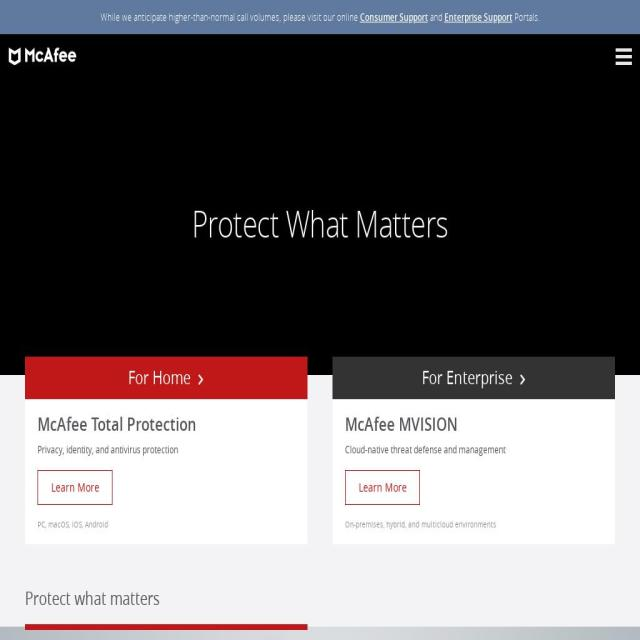button: (25, 357, 307, 399), (333, 357, 615, 399), (37, 412, 295, 436), (345, 412, 603, 436), (345, 470, 420, 505), (38, 470, 112, 505), (9, 47, 76, 66), (616, 34, 631, 79), (592, 47, 602, 61)
heading: (25, 586, 615, 610), (191, 202, 449, 246), (37, 412, 295, 436), (345, 412, 603, 436), (422, 365, 526, 389), (128, 365, 204, 389)
image: (0, 8, 640, 435), (615, 48, 632, 52), (615, 55, 632, 58), (615, 62, 632, 65)
link: (359, 10, 428, 24), (443, 10, 512, 24)
text: (9, 34, 581, 79), (37, 441, 295, 457), (345, 441, 603, 457), (37, 518, 295, 532), (345, 518, 603, 532), (100, 10, 360, 23), (512, 10, 540, 23), (428, 10, 444, 23)
